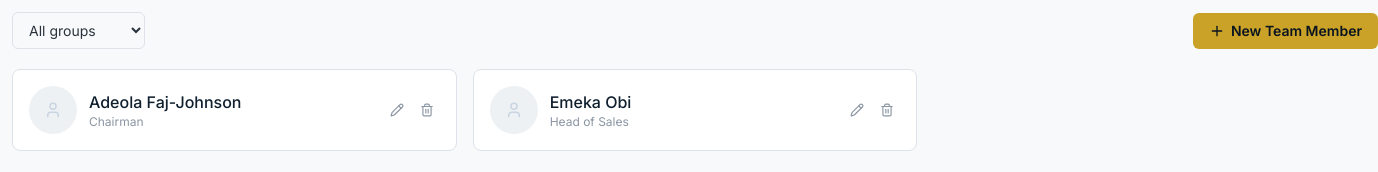
Test: TeamList › re-fetches with the correct group query param when the filter changes
expect the text "Adeola Faj-Johnson" is shown: met, box [89,92,242,112]
expect the text "Emeka Obi" is shown: met, box [550,92,632,112]
Select "board" in the dropdown at (78, 30), box [12,12,145,49]
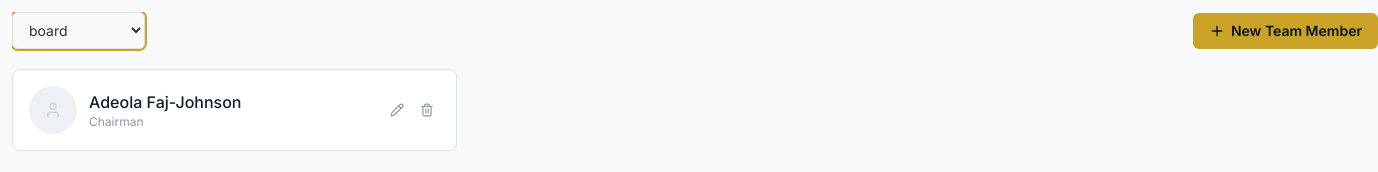
expect the text "Adeola Faj-Johnson" is shown: met, box [89,92,242,112]
expect the text "Emeka Obi" is gone: met
